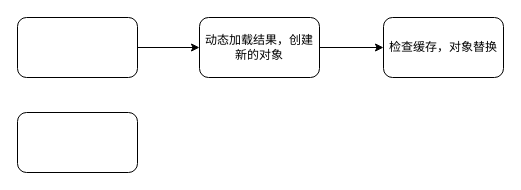
This 521x190 diagram has some shape labels left out. Each missing label, with the box of its shape:
文件监听和编译: (16, 16, 138, 78)
系统Tick: (16, 112, 138, 172)
